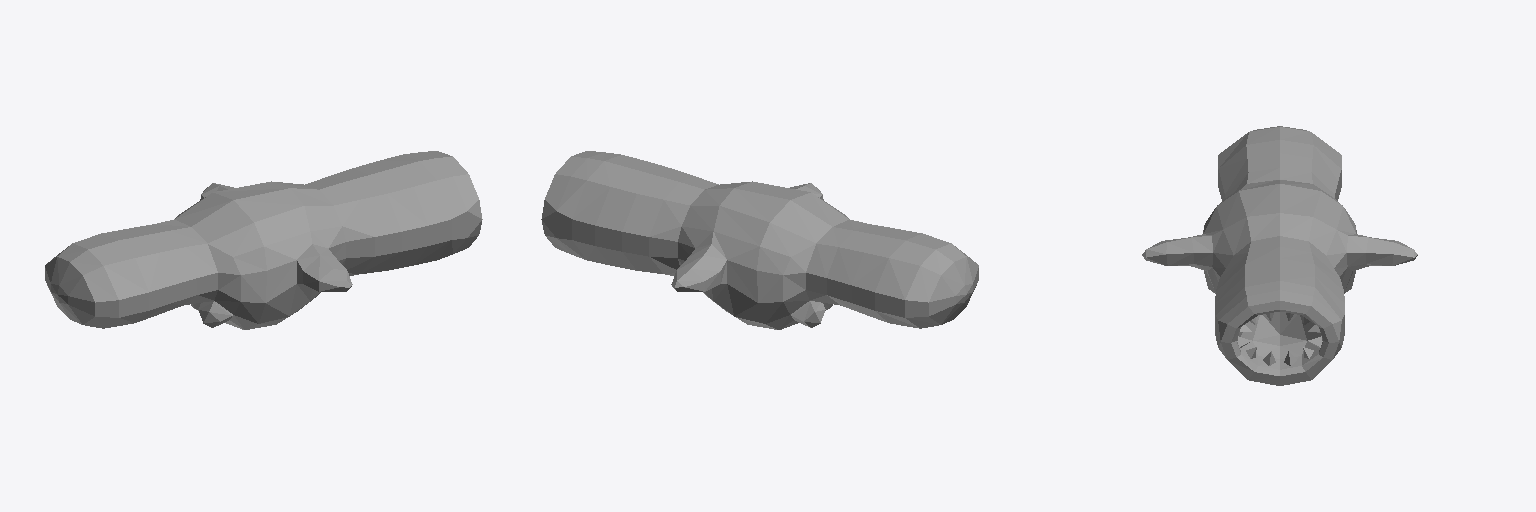
Rendered from Giggi.obj.
3 views of the same model, side by side, from view 1: azimuth 30°, elevation 25°; view 2: azimuth 150°, elevation 25°; view 3: azimuth 270°, elevation 25° (orthographic).
Visible parts, largest first — view 1: m026_BM_01_Mesh; view 2: m026_BM_01_Mesh; view 3: m026_BM_01_Mesh.
Part boxes in pixels (bbox=[...]): m026_BM_01_Mesh: bbox=[45, 151, 482, 329]; m026_BM_01_Mesh: bbox=[541, 151, 978, 329]; m026_BM_01_Mesh: bbox=[1142, 126, 1417, 385].
Size of the model in its own units: 0.9855 by 0.2913 by 0.593.